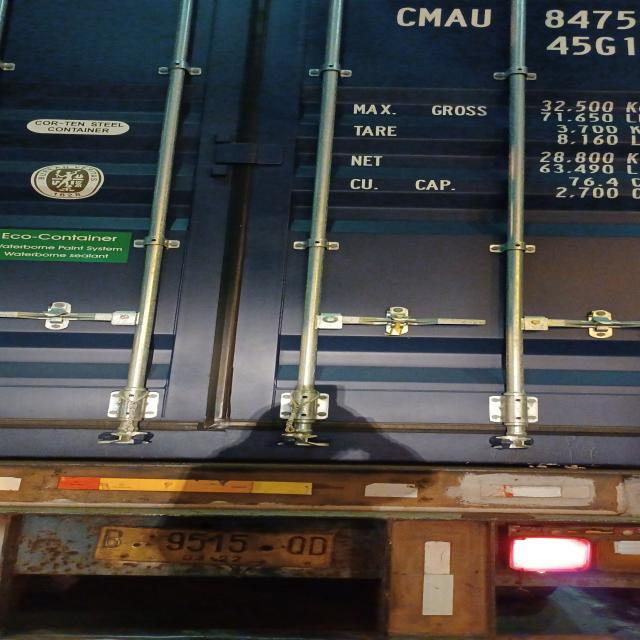seal: (384, 312, 411, 341)
